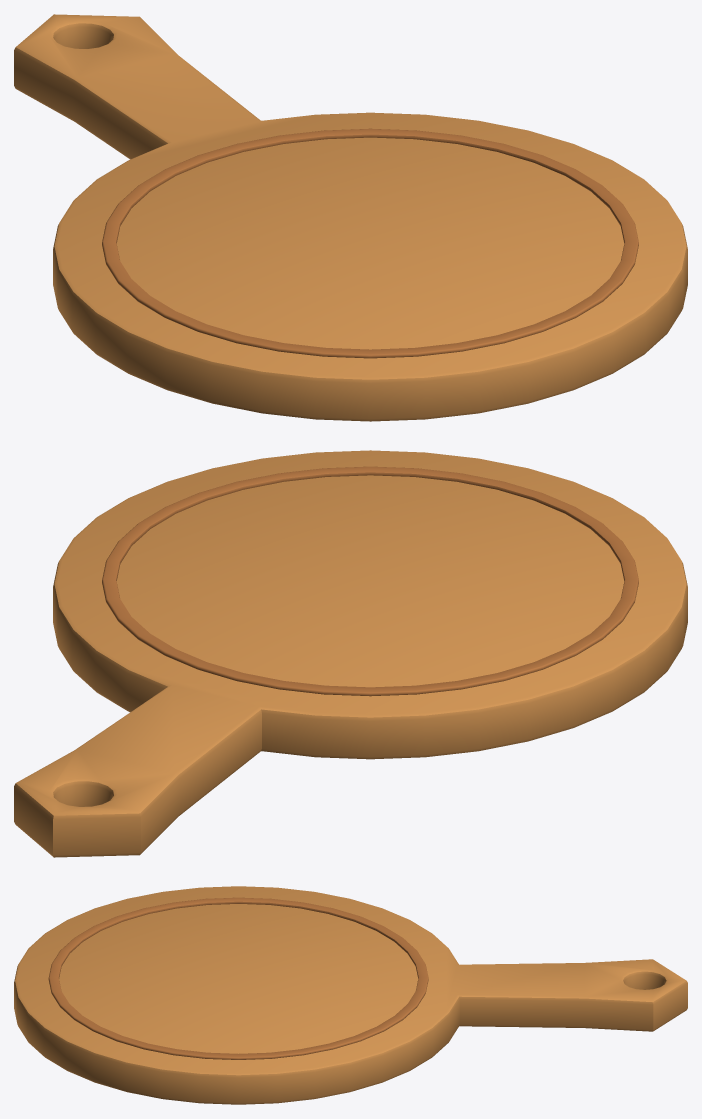
Rendered from tabua_corte_redonda.glb.
3 views of the same model, one above another, from view 1: azimuth 30°, elevation 25°; view 2: azimuth 150°, elevation 25°; view 3: azimuth 270°, elevation 25° (orthographic). The views are drawn at different scales.
Visible parts, largest first — view 1: tabua_corte_redonda; view 2: tabua_corte_redonda; view 3: tabua_corte_redonda.
Boxes of the visible parts, x1,y1,x2,y2 form: tabua_corte_redonda: (14, 14, 687, 421); tabua_corte_redonda: (14, 450, 687, 857); tabua_corte_redonda: (14, 886, 687, 1104).
Bounding box in the file's own units: 0.26 × 0.0215 × 0.39.
1 material, 1 textured.
